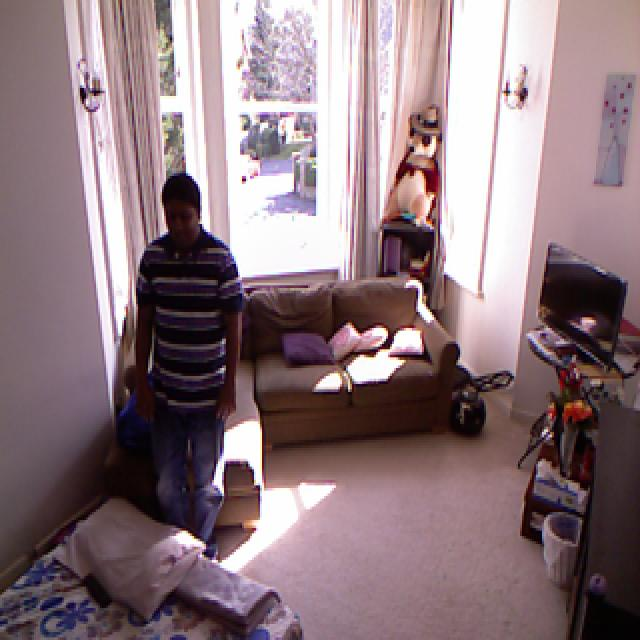standing: (134, 174, 246, 552)
